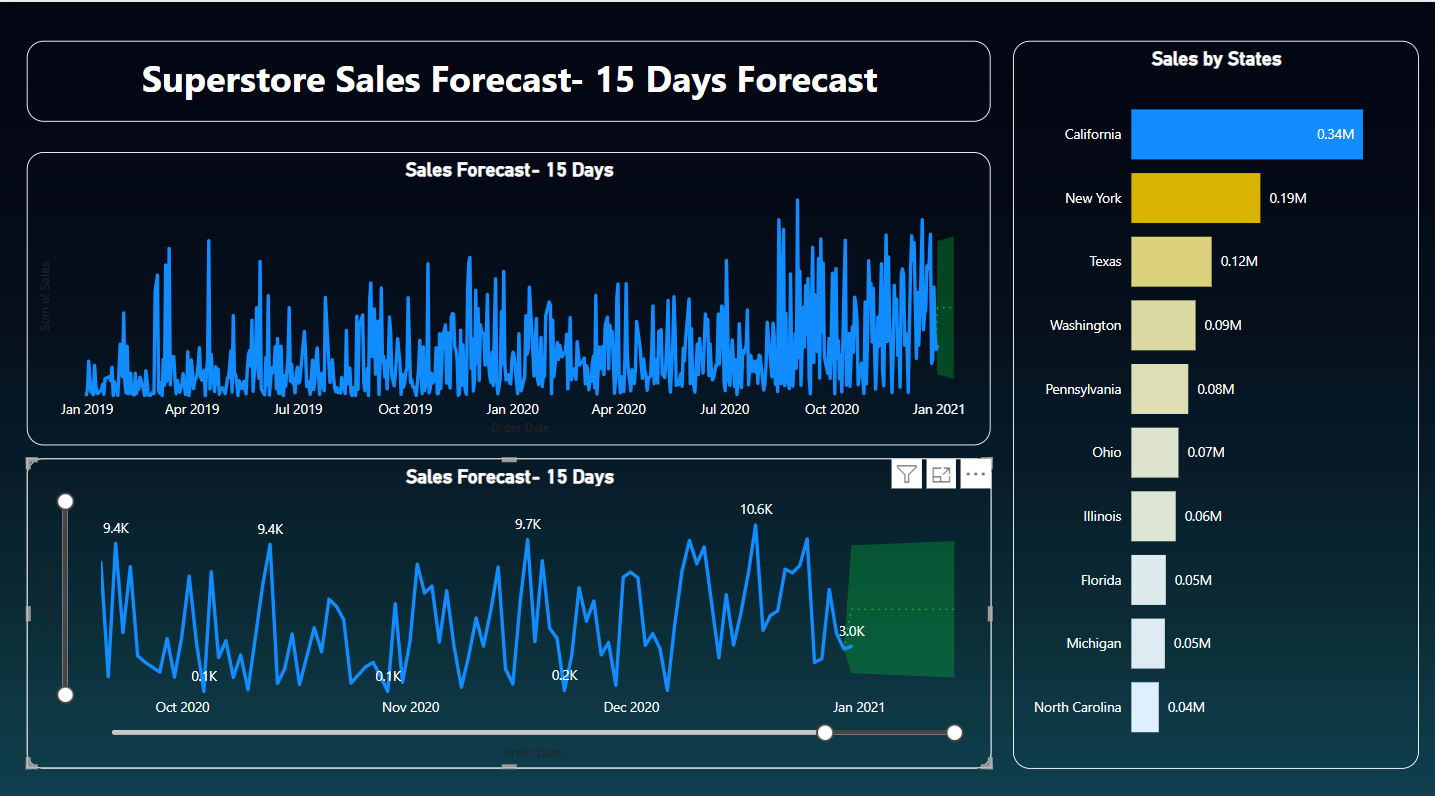

This screenshot's page, from the dashboard's own definition file:
{"tool":"powerbi","page":{"name":"Page 2","canvas":[1280,720],"ordinal":1},"visuals":[{"type":"lineChart","title":"Sales Forecast- 15 Days","fields":{"Y":["Sum(SuperStore_Sales_Dataset 1 3.Sales)"],"Category":["SuperStore_Sales_Dataset 1 3.Order Date"]},"box":[25.3,405.2,857.5,276.2],"z":0},{"type":"lineChart","title":"Sales Forecast- 15 Days","fields":{"Y":["Sum(SuperStore_Sales_Dataset 1 3.Sales)"],"Category":["SuperStore_Sales_Dataset 1 3.Order Date"]},"box":[25.9,133.3,856.8,260.5],"z":1000},{"type":"textbox","box":[25.9,34.6,856.8,71.6],"z":2000},{"type":"clusteredBarChart","title":"Sales by States","fields":{"Y":["Sum(SuperStore_Sales_Dataset 1 3.Sales)"],"Category":["SuperStore_Sales_Dataset 1 3.State"]},"box":[902.5,34.6,360.5,646.9],"z":3000}]}

Visuals, with their boxes in screenshot pixels (x1, y1, x2, y2), scaled from the page's 1280x720 canvas onto the 1435x796 screenshot:
"Sales Forecast- 15 Days" lineChart: {"left": 28, "top": 448, "right": 990, "bottom": 753}
"Sales Forecast- 15 Days" lineChart: {"left": 29, "top": 147, "right": 990, "bottom": 435}
textbox: {"left": 29, "top": 38, "right": 990, "bottom": 117}
"Sales by States" clusteredBarChart: {"left": 1012, "top": 38, "right": 1416, "bottom": 753}
